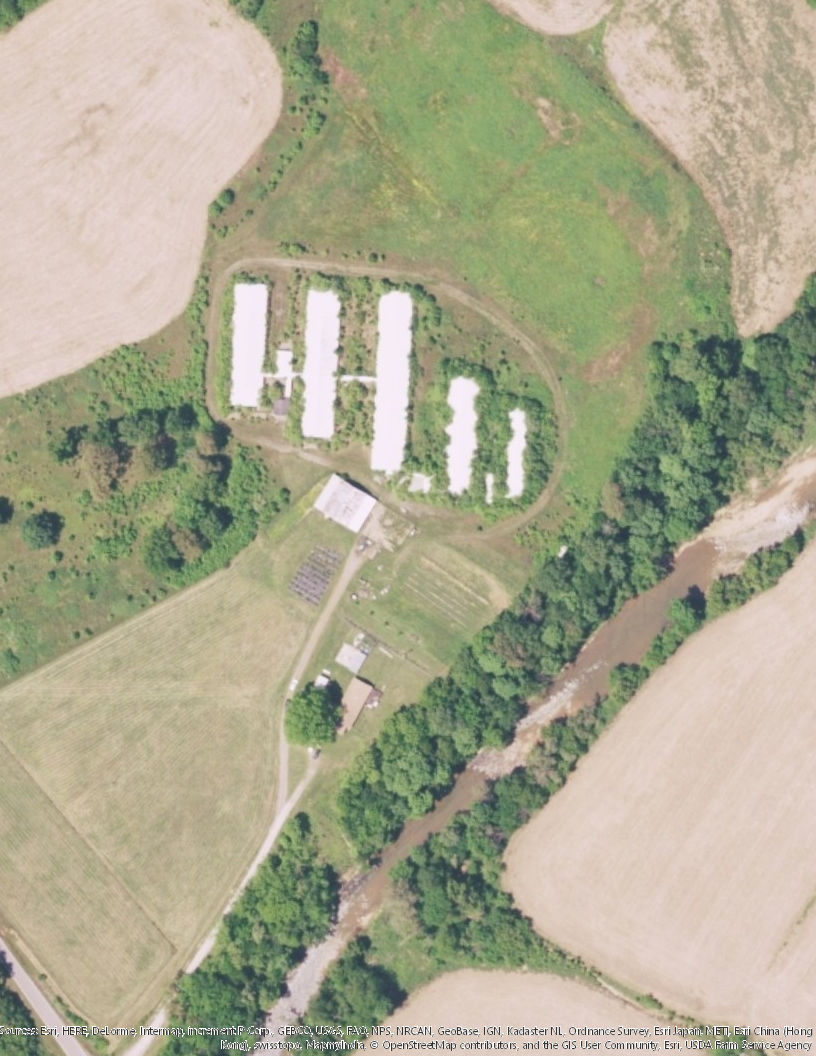cafo: (366, 287, 415, 478), (301, 285, 344, 440), (227, 282, 270, 405), (312, 470, 379, 535), (445, 373, 480, 495), (502, 405, 529, 498)
